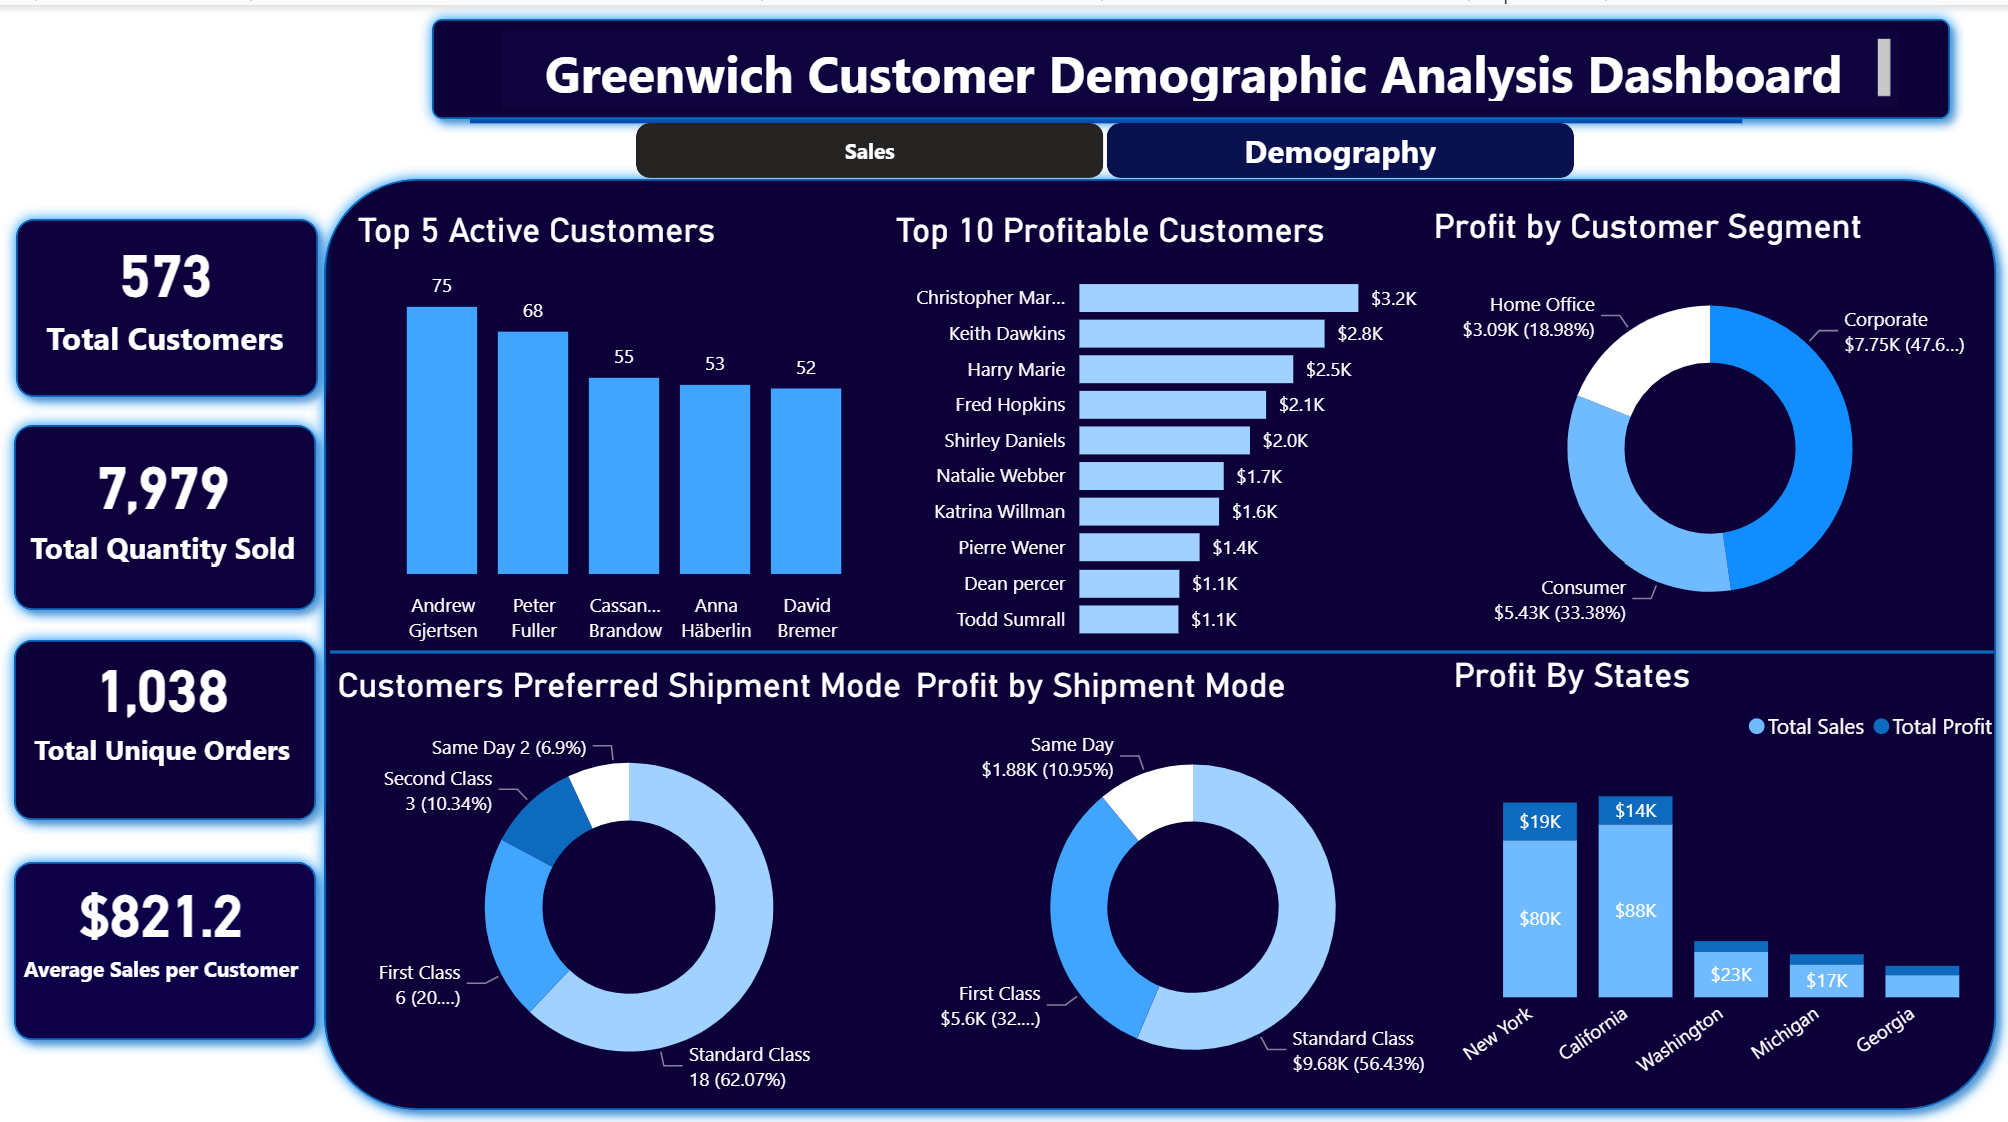

This screenshot's page, from the dashboard's own definition file:
{"tool":"powerbi","page":{"name":"Demography","canvas":[1280,720],"ordinal":2},"visuals":[{"type":"shape","box":[197.6,102,1083.7,610.7],"z":0},{"type":"shape","box":[1.3,127.5,210.4,131.3],"z":1000},{"type":"shape","box":[0,258.8,210.4,135.1],"z":2000},{"type":"shape","box":[0,395.2,210.4,132.6],"z":3000},{"type":"shape","box":[0,536.7,210.4,131.3],"z":4000},{"type":"shape","box":[210.4,261.4,1060.7,300.9],"z":5000},{"type":"card","fields":{"Values":["Calculations.Total Customers"]},"box":[8.9,131.3,192.5,103.3],"z":6000},{"type":"card","fields":{"Values":["Calculations.Total Quantity Sold"]},"box":[8.9,270.3,190,93.1],"z":7000},{"type":"card","fields":{"Values":["Calculations.Total Unique Orders"]},"box":[8.9,383.7,188.7,122.4],"z":8000},{"type":"card","fields":{"Values":["Calculations.Average Sales per Customer"]},"box":[3.8,536.7,197.6,98.2],"z":9000},{"type":"clusteredColumnChart","title":"Top 5 Active Customers","fields":{"Category":["Customer_dim.Customer Name"],"Y":["Calculations.Total Quantity Sold"]},"box":[223.1,131.3,342.9,281.8],"z":10000},{"type":"clusteredBarChart","title":"Top 10 Profitable Customers","fields":{"Category":["Customer_dim.Customer Name"],"Y":["Calculations.Total Profit"]},"box":[566.1,131.3,342.9,283],"z":11000},{"type":"donutChart","title":"Profit by Customer Segment","fields":{"Category":["Customer_dim.Segment"],"Y":["Calculations.Total Profit"]},"box":[909,128.8,362.1,283],"z":12000},{"type":"textbox","box":[299.6,20.4,810.8,54.8],"z":13000},{"type":"shape","box":[266.5,0,985.5,81.6],"z":14000},{"type":"textbox","box":[320,16.6,889.9,49.7],"z":15000},{"type":"donutChart","title":"Customers Preferred Shipment Mode","fields":{"Category":["Order_dim.Ship Mode"],"Y":["Calculations.Total Unique Orders"]},"box":[210.4,420.7,381.2,283],"z":16000},{"type":"donutChart","title":"     Profit by Shipment Mode","fields":{"Category":["Order_dim.Ship Mode"],"Y":["Calculations.Total Profit"]},"box":[578.8,420.7,363.3,283],"z":17000},{"type":"columnChart","title":"Profit By States","fields":{"Category":["Location_dim.State"],"Y":["Calculations.Total Sales","Calculations.Total Profit"]},"box":[921.8,414.3,358.2,289.4],"z":18000},{"type":"bookmarkNavigator","box":[405.5,75.3,599.7,35.7],"z":19000}]}

Visuals, with their boxes in screenshot pixels (x1, y1, x2, y2), scaled from the page's 1280x720 canvas onto the 2008x1122 screenshot:
shape: <bbox>310, 159, 2007, 1111</bbox>
shape: <bbox>2, 199, 332, 403</bbox>
shape: <bbox>0, 403, 330, 614</bbox>
shape: <bbox>0, 616, 330, 822</bbox>
shape: <bbox>0, 836, 330, 1041</bbox>
shape: <bbox>330, 407, 1994, 876</bbox>
card - Calculations.Total Customers: <bbox>14, 205, 316, 366</bbox>
card - Calculations.Total Quantity Sold: <bbox>14, 421, 312, 566</bbox>
card - Calculations.Total Unique Orders: <bbox>14, 598, 310, 789</bbox>
card - Calculations.Average Sales per Customer: <bbox>6, 836, 316, 989</bbox>
"Top 5 Active Customers" clusteredColumnChart: <bbox>350, 205, 888, 644</bbox>
"Top 10 Profitable Customers" clusteredBarChart: <bbox>888, 205, 1426, 646</bbox>
"Profit by Customer Segment" donutChart: <bbox>1426, 201, 1994, 642</bbox>
textbox: <bbox>470, 32, 1742, 117</bbox>
shape: <bbox>418, 0, 1964, 127</bbox>
textbox: <bbox>502, 26, 1898, 103</bbox>
"Customers Preferred Shipment Mode" donutChart: <bbox>330, 656, 928, 1097</bbox>
"     Profit by Shipment Mode" donutChart: <bbox>908, 656, 1478, 1097</bbox>
"Profit By States" columnChart: <bbox>1446, 646, 2007, 1097</bbox>
bookmarkNavigator: <bbox>636, 117, 1577, 173</bbox>
